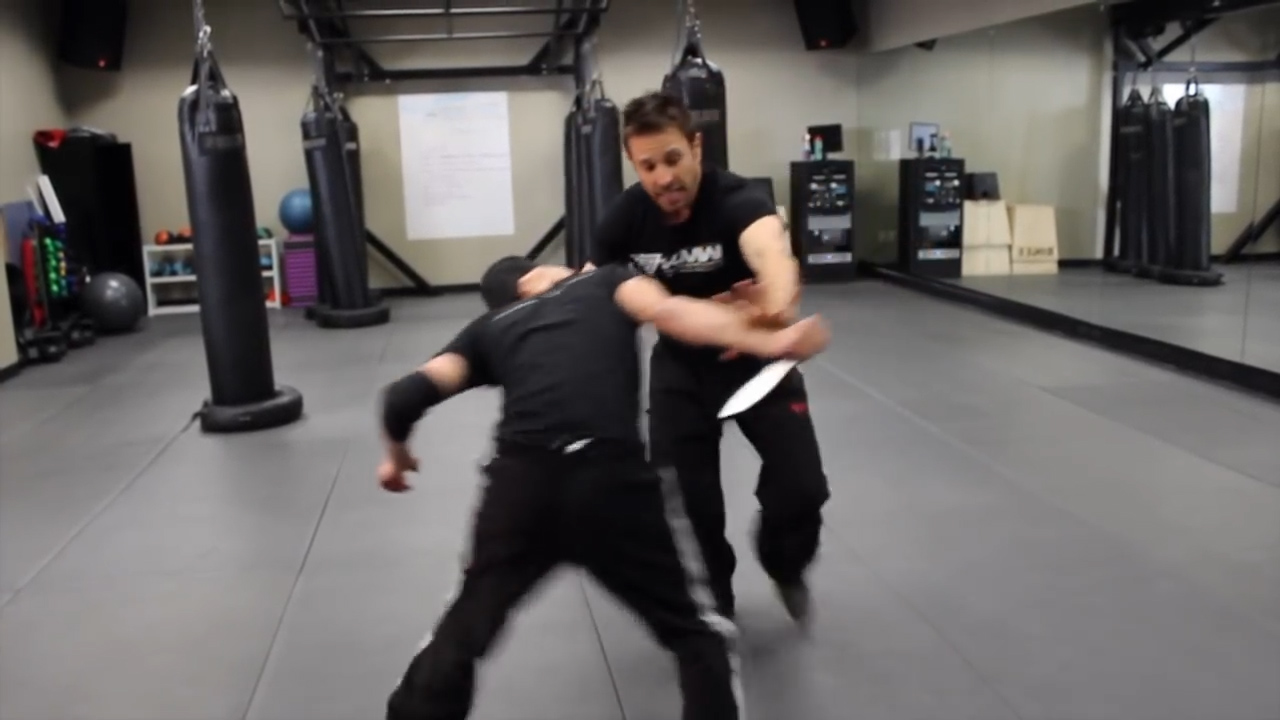knife: (708, 311, 834, 425)
